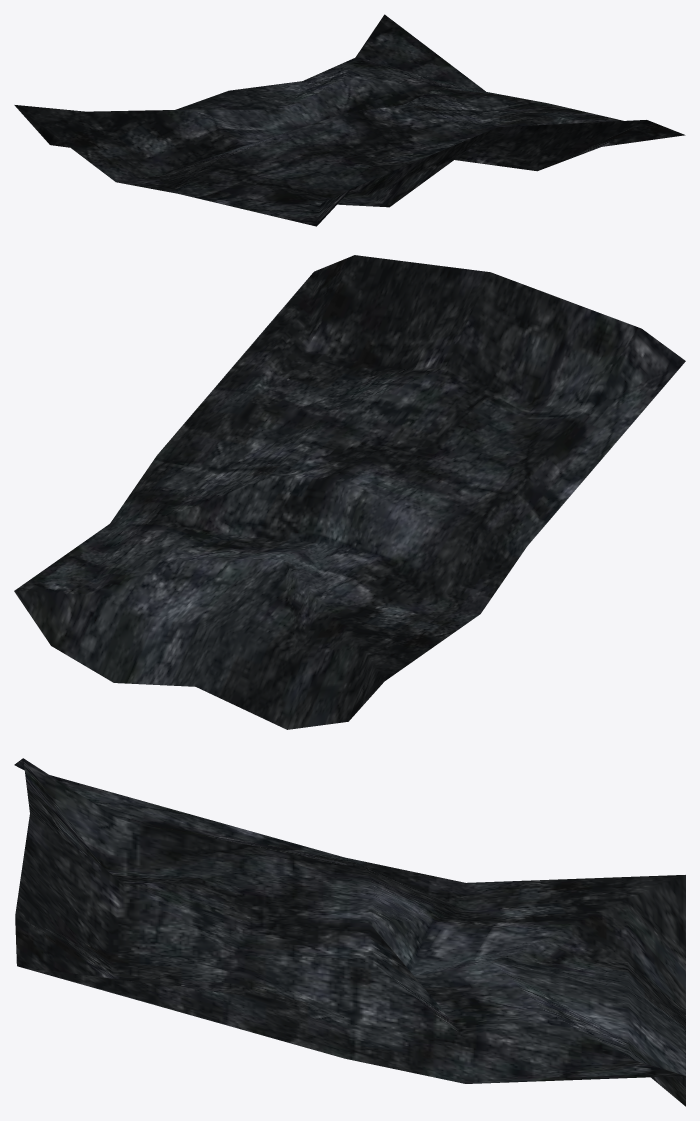
3 renders of one model, top to bottom at view 1: azimuth 30°, elevation 25°; view 2: azimuth 150°, elevation 25°; view 3: azimuth 270°, elevation 25°, orthographic. The views are drawn at different scales.
Parts seen in each view (by area): view 1: model_Object29; view 2: model_Object29; view 3: model_Object29.
Part boxes in pixels (x1=…): model_Object29: x1=14, y1=14, x2=685, y2=226; model_Object29: x1=14, y1=255, x2=685, y2=729; model_Object29: x1=14, y1=758, x2=685, y2=1106.
Bounding box in the file's own units: 2.46 × 1.35 × 3.37.
Materials: 1 (1 with a texture image).
